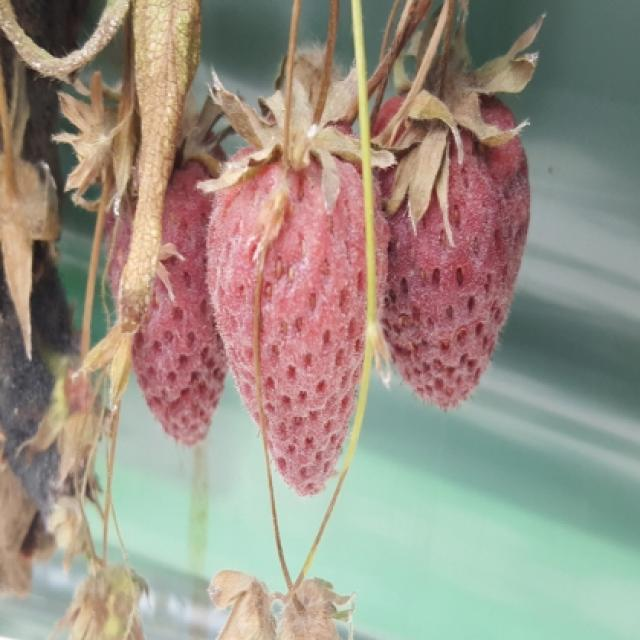Powdery Mildew Fruit: (206, 104, 390, 500), (362, 85, 530, 413), (103, 157, 232, 444)
